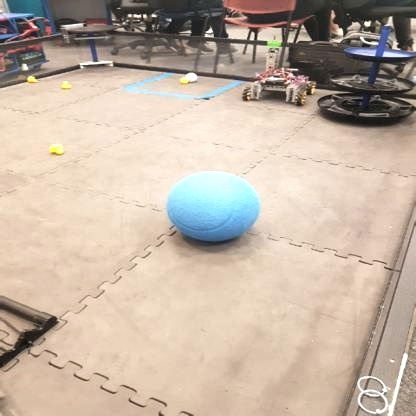sphere: (152, 166, 272, 252)
